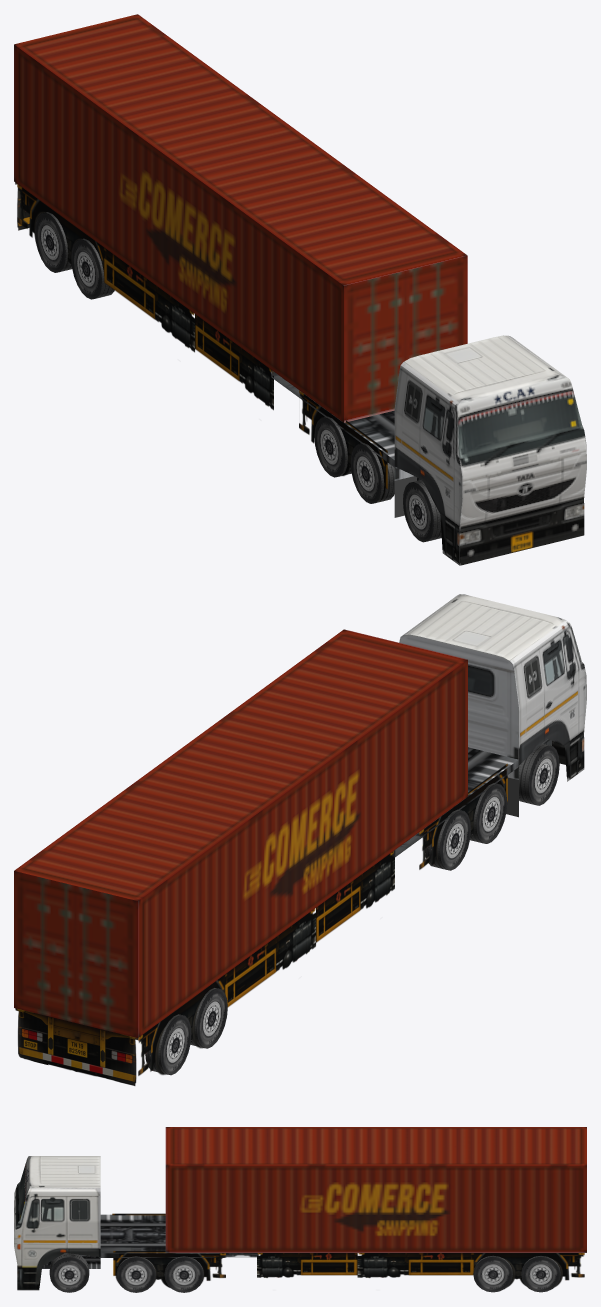
The model's file is tata_signa_cargo_truck.glb.
The picture shows the model from 3 angles, top to bottom: view 1: azimuth 30°, elevation 25°; view 2: azimuth 150°, elevation 25°; view 3: azimuth 270°, elevation 25°; orthographic projection. The views are drawn at different scales.
Visible parts, largest first — view 1: body; view 2: body; view 3: body.
Part boxes in pixels (bbox=[...]): body: bbox=[14, 14, 586, 565]; body: bbox=[14, 594, 586, 1085]; body: bbox=[14, 1127, 586, 1292].
Size of the model in its own units: 1.49 by 2.26 by 9.2.
Materials: 7 (6 with a texture image).
